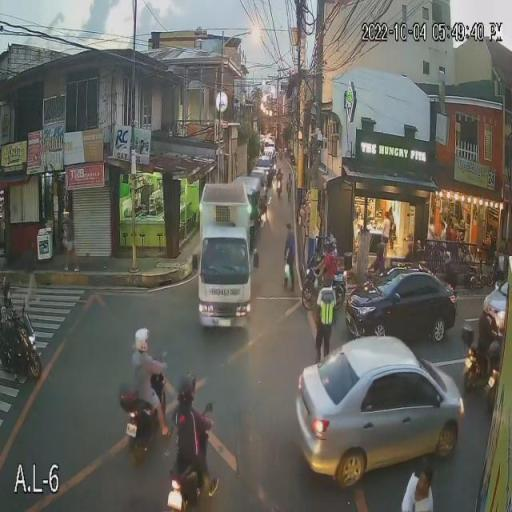helmet: (176, 374, 194, 398), (478, 298, 497, 319), (0, 276, 18, 297), (134, 327, 148, 348), (323, 234, 338, 250)
motorcycle: (166, 401, 218, 511), (118, 364, 170, 465), (0, 296, 42, 382), (462, 324, 496, 392), (449, 250, 487, 290), (303, 255, 330, 310), (328, 262, 350, 306)
rider: (172, 374, 215, 512), (132, 328, 170, 436), (472, 308, 498, 374), (0, 275, 18, 346), (318, 240, 339, 293)
